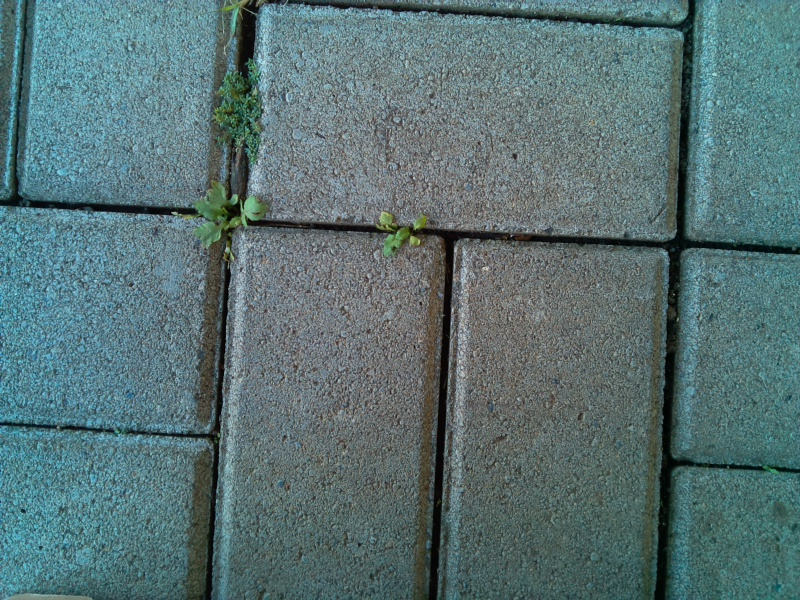Weed: (195, 58, 282, 158), (175, 176, 274, 251), (363, 206, 439, 254), (211, 2, 262, 45), (753, 457, 781, 484), (106, 422, 132, 442), (203, 427, 226, 449)
